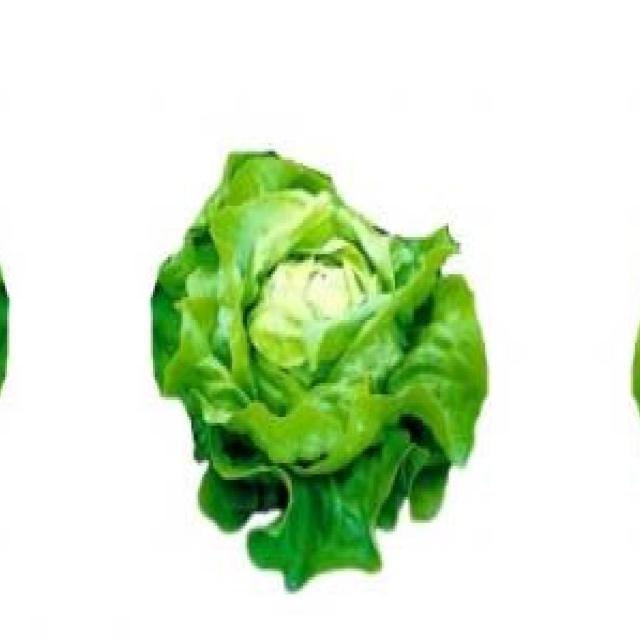healthy: (150, 140, 488, 582), (0, 139, 9, 582), (632, 139, 640, 582)
